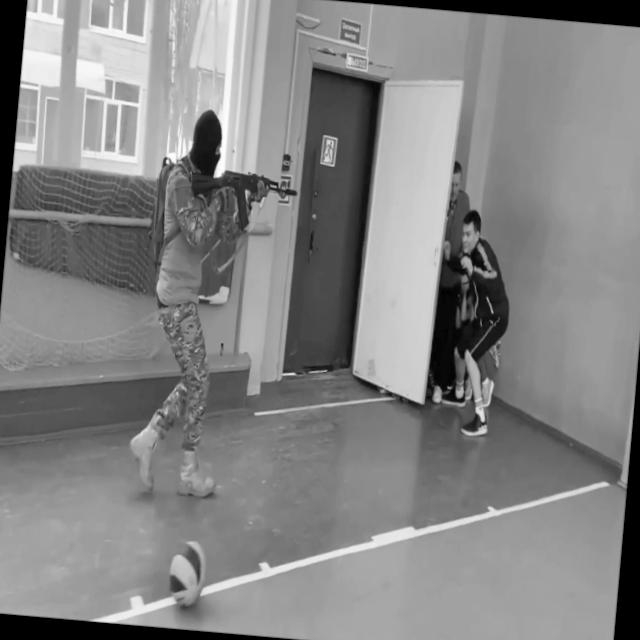gun: (186, 164, 300, 238)
person: (429, 208, 518, 442)
person with a gun: (124, 102, 305, 506)
